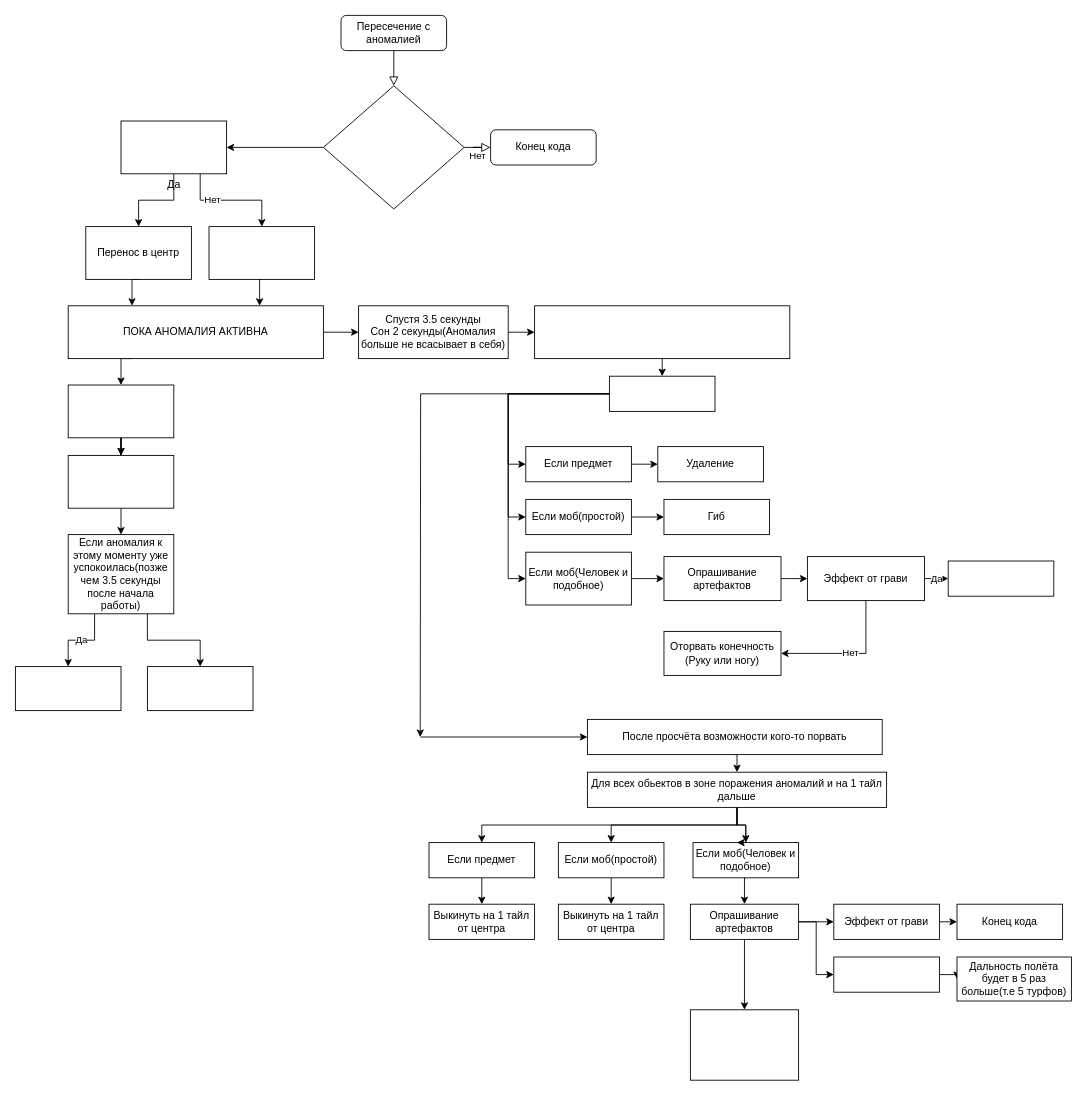
This 1087x1096 diagram has some shape labels left out. Each missing label, with the centre of its shape:
"Активировать аномалию, перенести в центр" belongs at point 261,252.
"Аномалия активна?" belongs at point 173,147.
"Аномалия готова? (Прошло КД и инициатор указан в списке инициаторов" belongs at point 393,147.
"Выкинуть на [ДАЛЬНОСТЬ ПОЛЁТА] от центра. Обычно дальность полёта = 1" belongs at point 744,1044.
"Для всех обьектов в самом центре аномалии" belongs at point 662,393.
"Жертва остаётся в центре" belongs at point 200,688.
"Жертва покидает аномалию" belongs at point 68,688.
"Жертва пытается выйти из аномалии" belongs at point 120,411.
"Запуск прогресс бара на 2 секунды" belongs at point 120,481.
"Игнорировать моба" belongs at point 1000,578.
"Финальный Акорд(Разрыв)" belongs at point 662,332.
"Эффект от воздуха" belongs at point 886,974.
